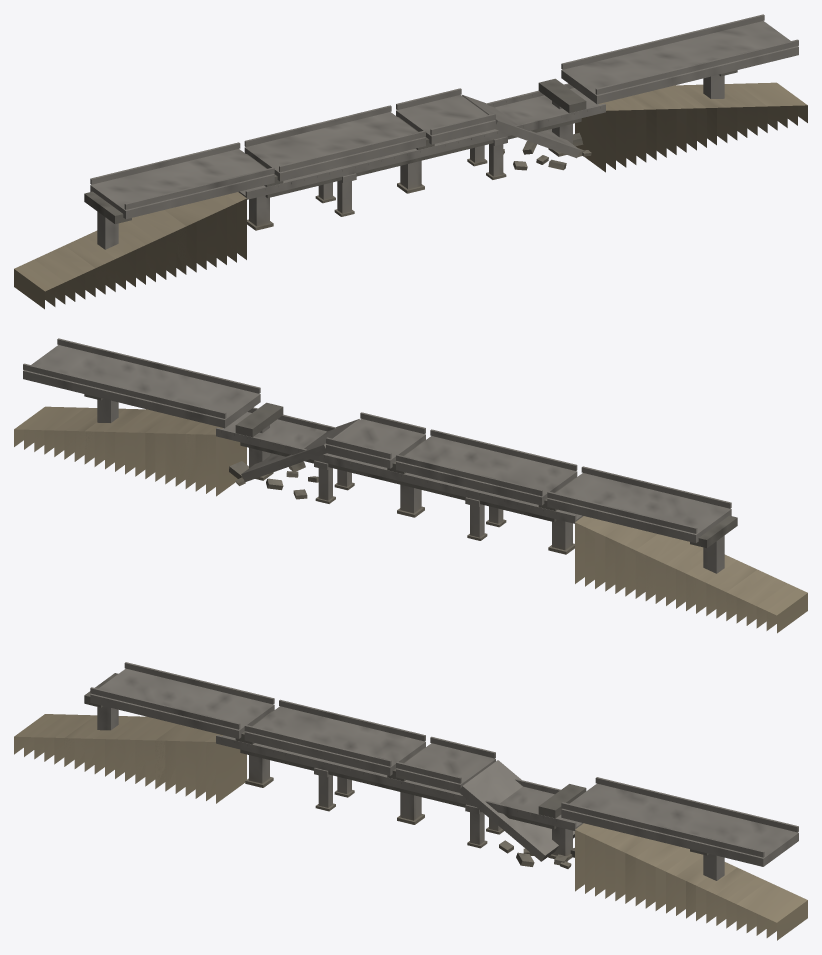
Rendered from manmade_big.glb.
The picture shows the model from 3 angles, top to bottom: view 1: azimuth 30°, elevation 25°; view 2: azimuth 150°, elevation 25°; view 3: azimuth 330°, elevation 25°; orthographic projection.
Visible parts, largest first — view 1: viaduct, overpass; view 2: viaduct, overpass; view 3: viaduct, overpass.
Part boxes in pixels (x1=…): viaduct: x1=84, y1=14, x2=798, y2=249; overpass: x1=14, y1=82, x2=807, y2=309; viaduct: x1=23, y1=338, x2=737, y2=573; overpass: x1=14, y1=406, x2=807, y2=633; viaduct: x1=84, y1=662, x2=798, y2=880; overpass: x1=14, y1=714, x2=807, y2=940.
Size of the model in its own units: 136 by 14.9 by 12.11.
